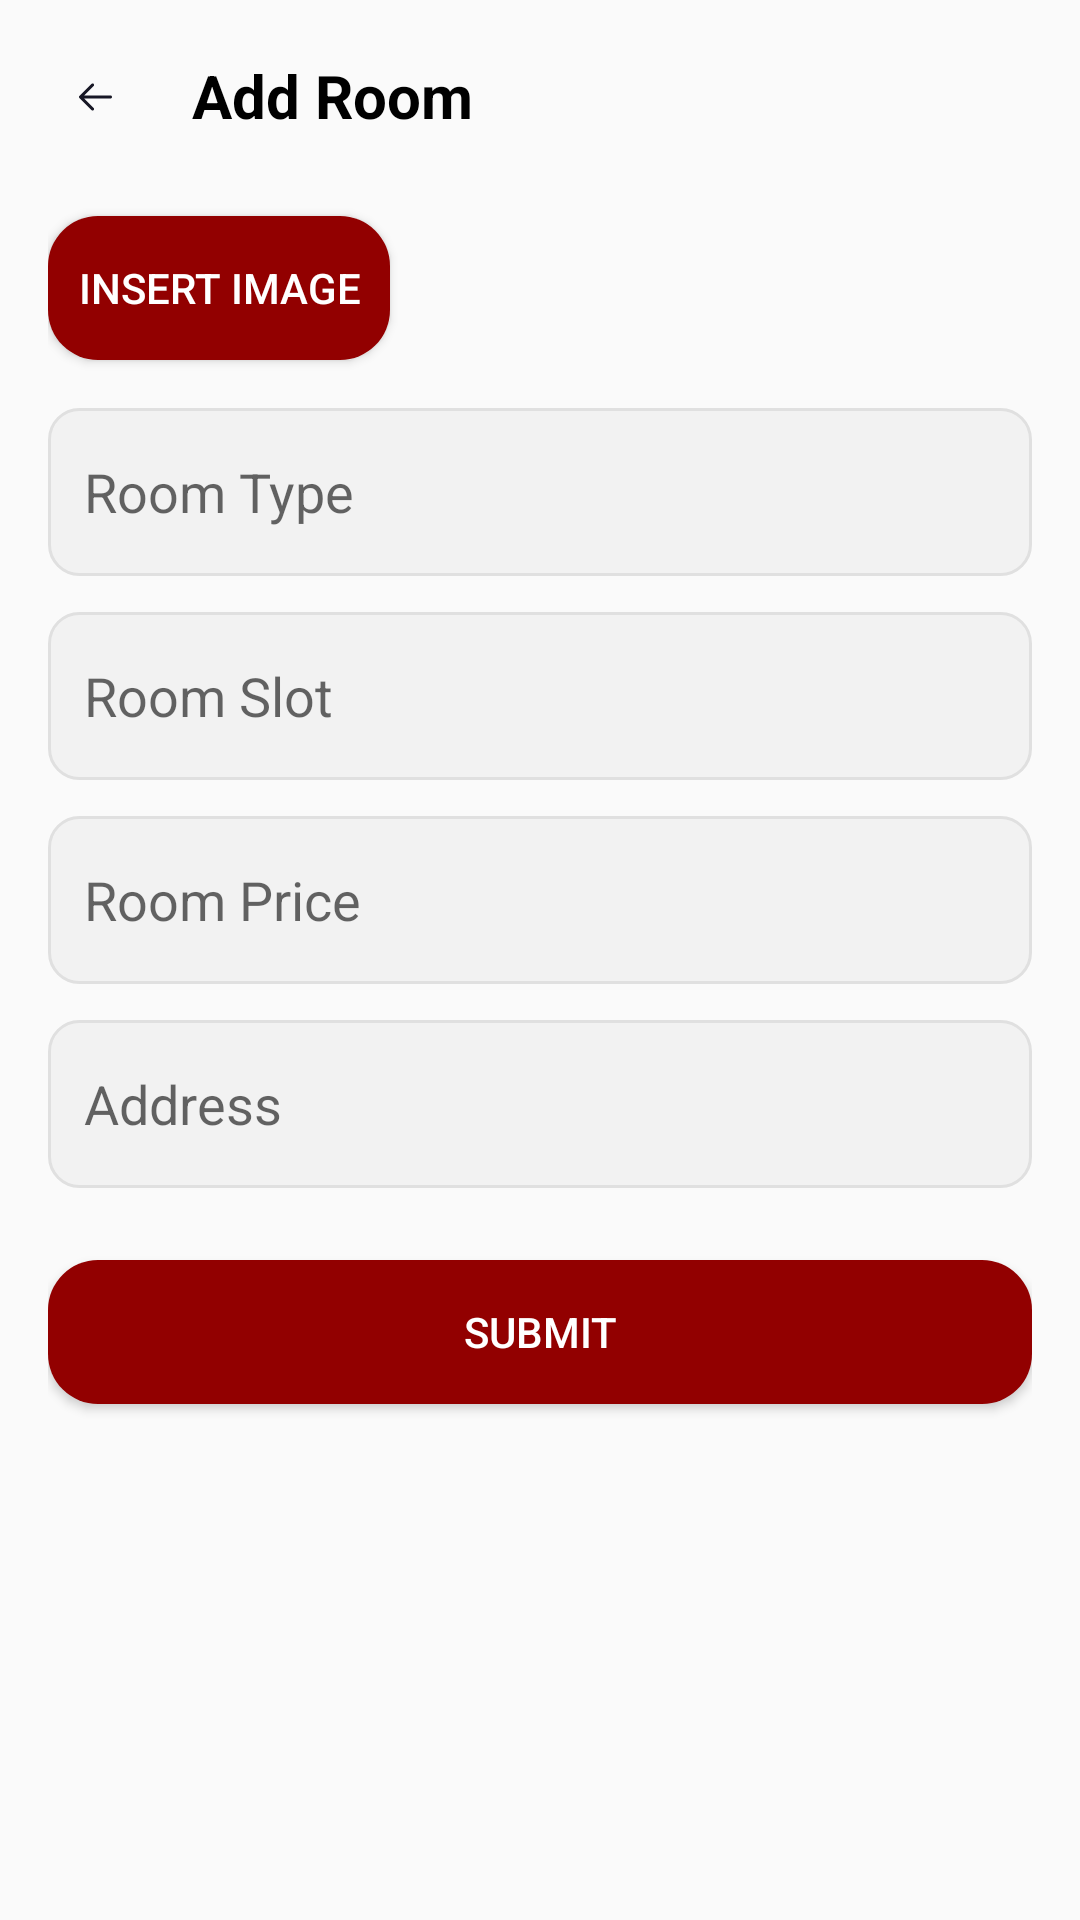

Named icons in this screenshot (1080px x 1920px) and their centers, (x,y):
Back: (95,97)
